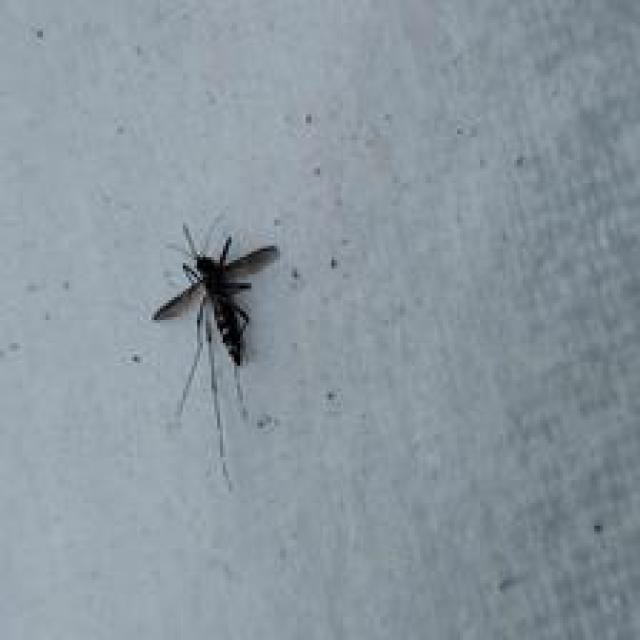Aedes albopictus: (150, 219, 281, 490)
